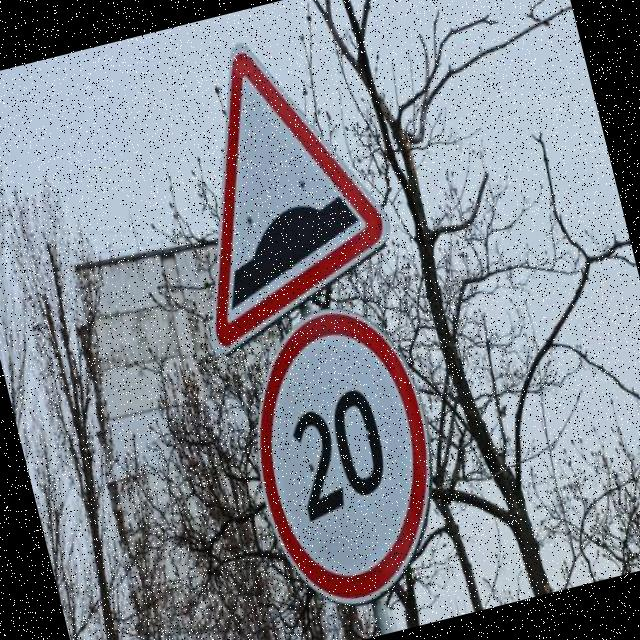speed_limit_20: (220, 284, 470, 630)
